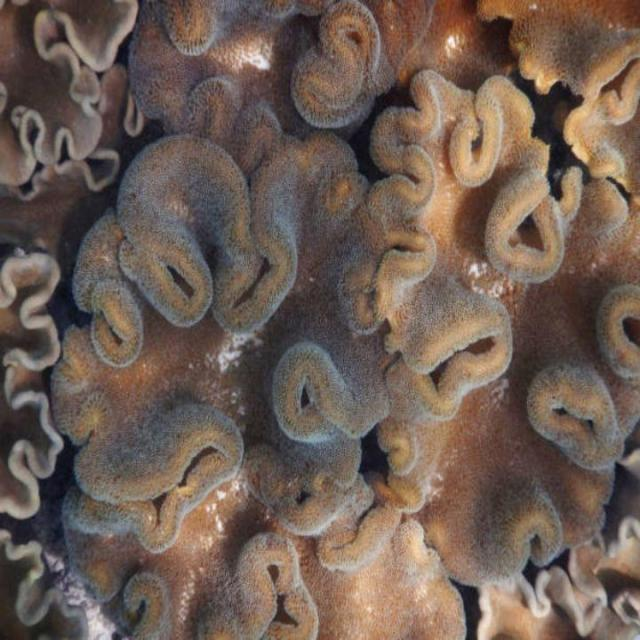Dead Coral: (32, 55, 581, 581)
